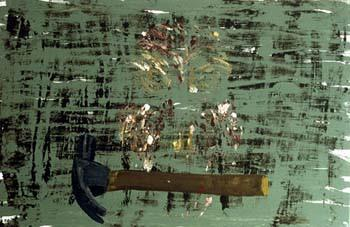hammer: (70, 132, 269, 225)
